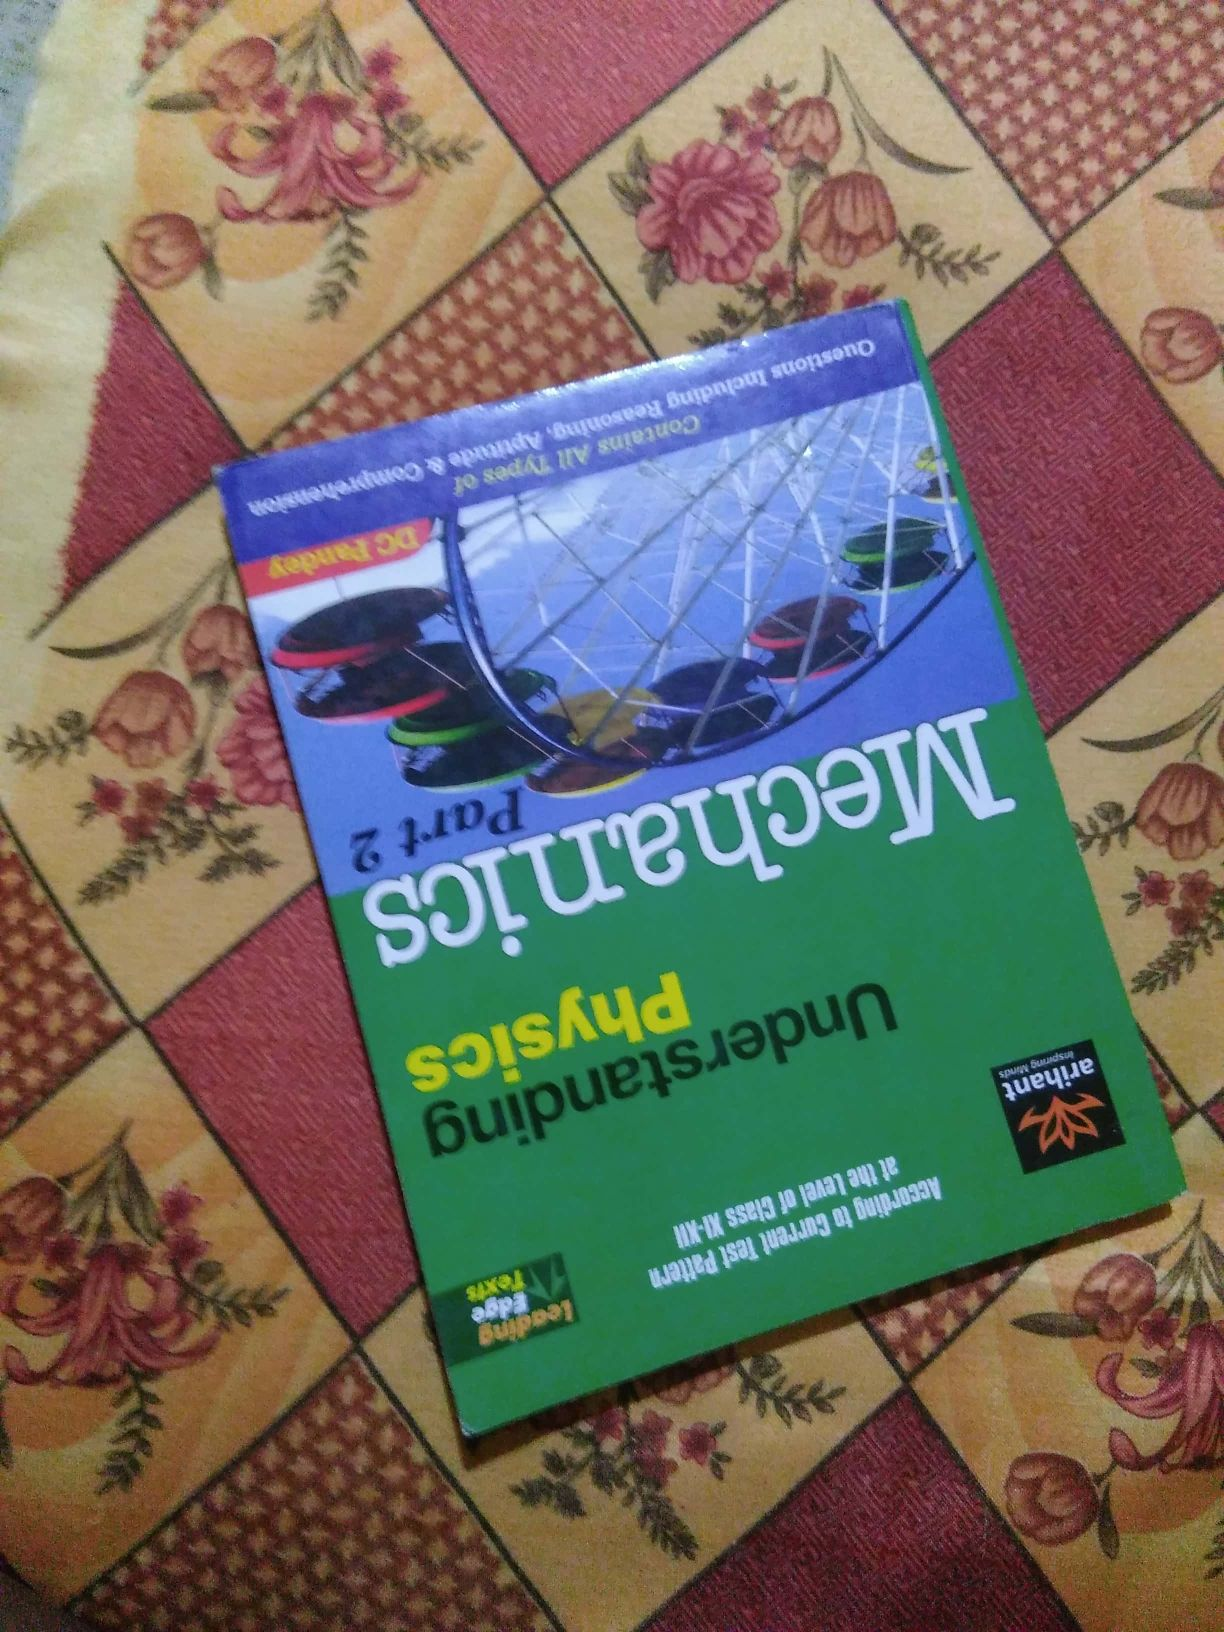mechanics: (170, 388, 1224, 1405)
